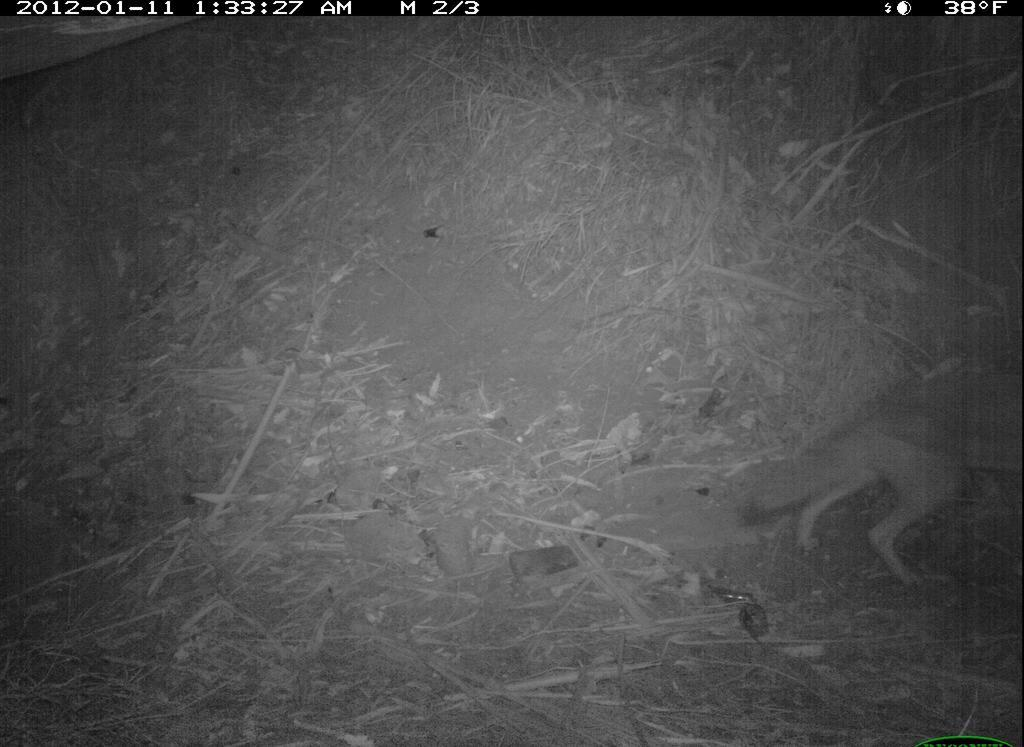coyote: (740, 358, 1021, 592)
